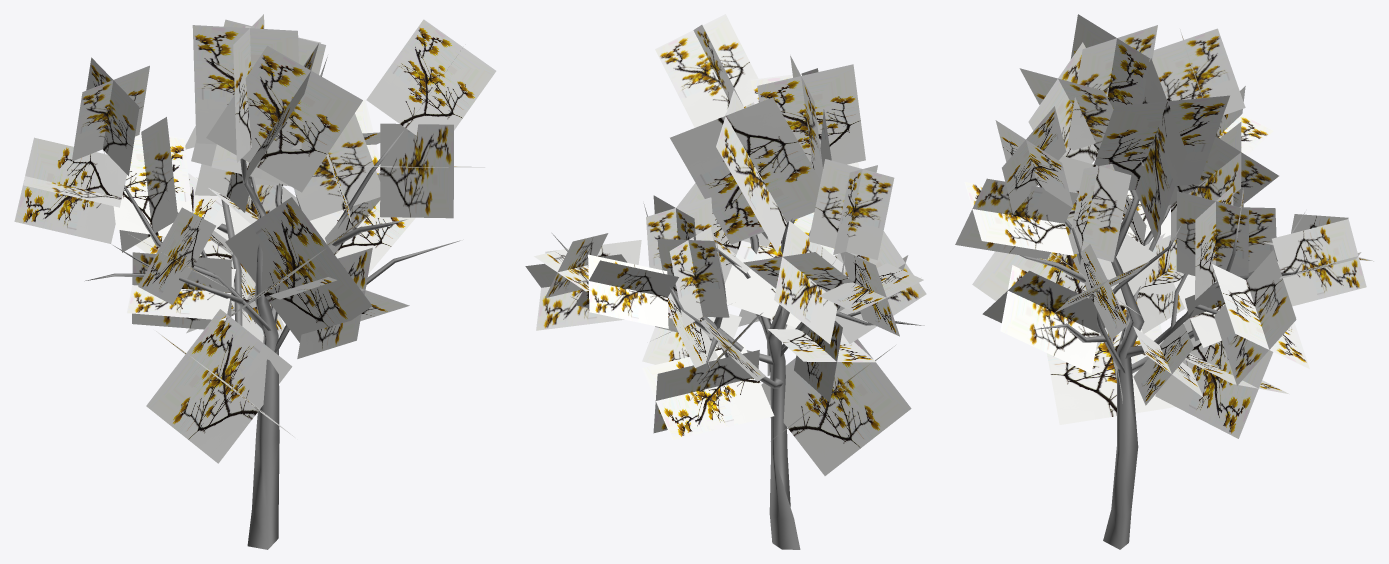
The model's file is MeiHua.FBX.
3 renders of one model, left to right at view 1: azimuth 30°, elevation 25°; view 2: azimuth 150°, elevation 25°; view 3: azimuth 270°, elevation 25°, orthographic. The views are drawn at different scales.
Parts seen in each view (by area): view 1: MeiHua; view 2: MeiHua; view 3: MeiHua.
Boxes of the visible parts, box(x1,y1,x2,y2) form: MeiHua: box(14, 14, 496, 549); MeiHua: box(525, 14, 926, 549); MeiHua: box(955, 14, 1373, 549).
Size of the model in its own units: 4.33 by 5.44 by 4.11.
Materials: 2 (1 with a texture image).
